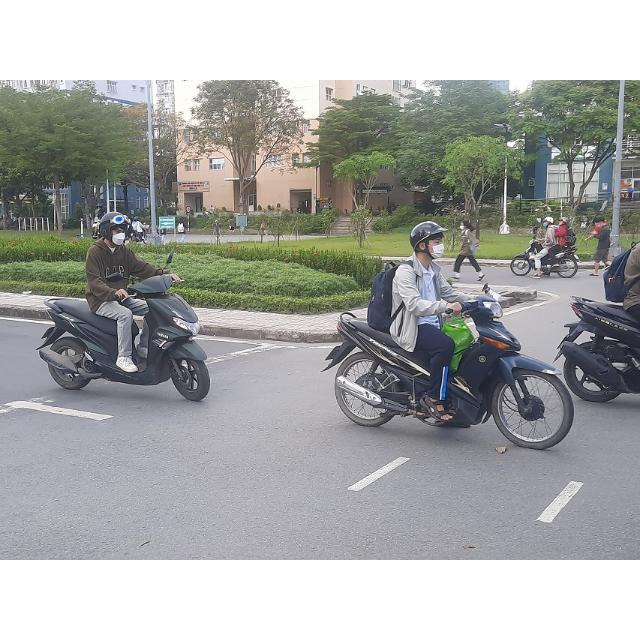Helmet: (408, 220, 448, 258), (97, 210, 133, 248)
